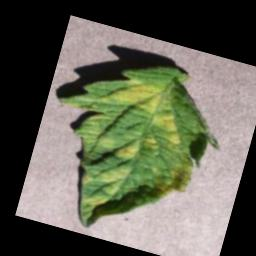Leaf_Mold: (26, 38, 237, 256)
